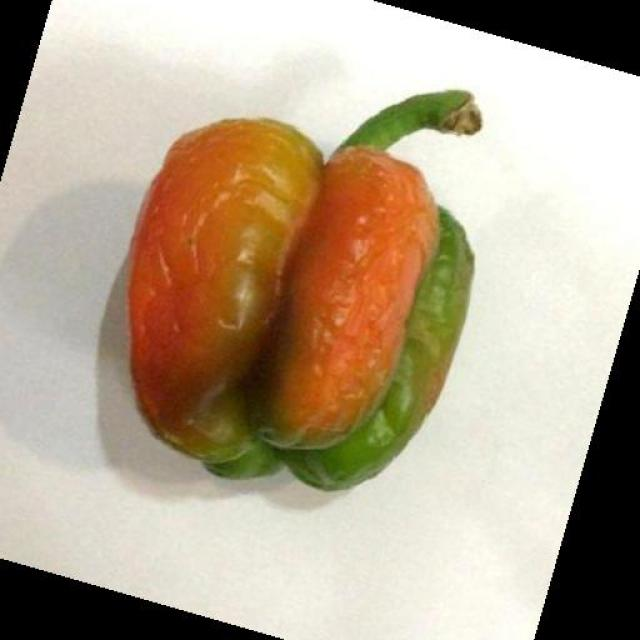Stale_Capsicum: (124, 83, 496, 502)
